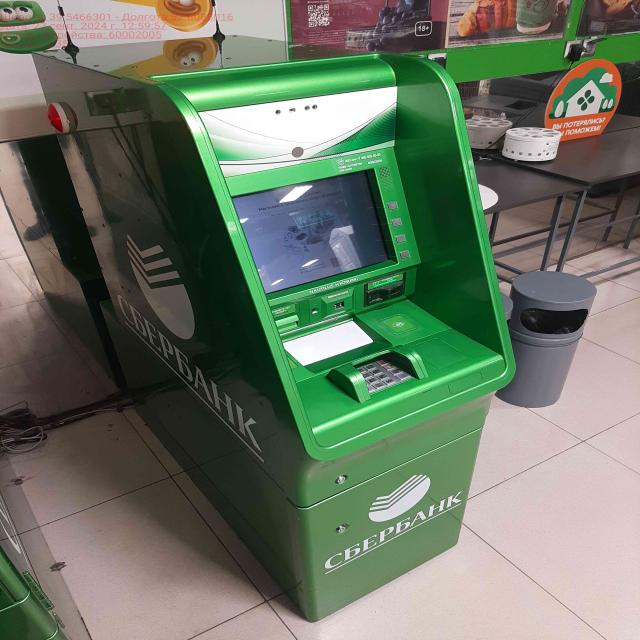bank: (27, 31, 514, 617)
